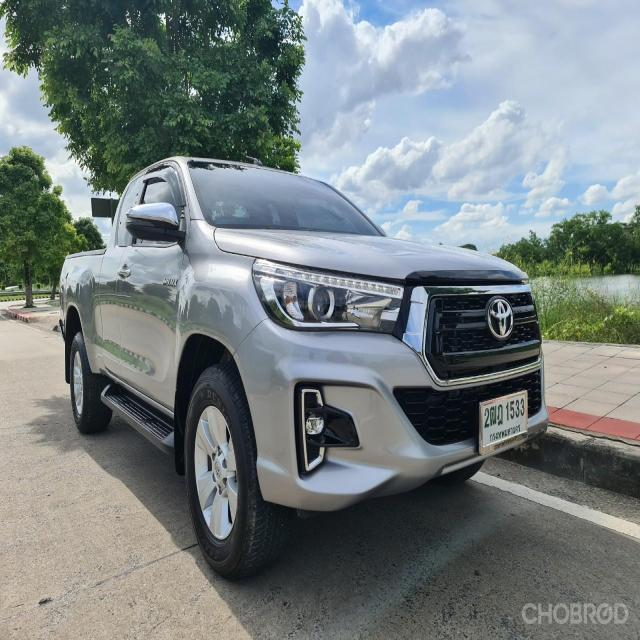license_plate: (475, 389, 530, 458)
